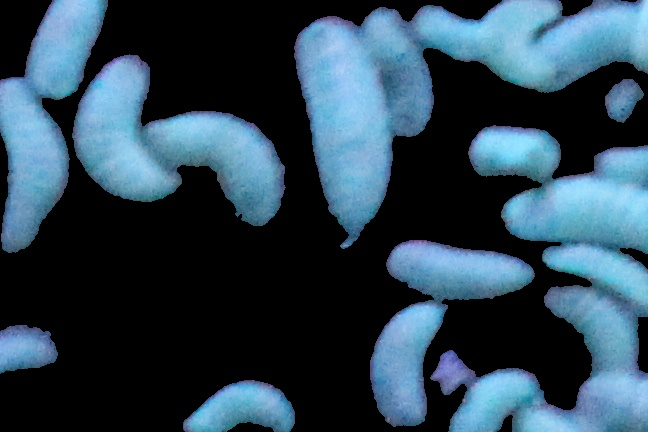larvae: (288, 18, 393, 225), (146, 111, 286, 222), (78, 54, 179, 199), (1, 77, 70, 253), (495, 180, 648, 251), (361, 297, 440, 422), (398, 232, 534, 299), (546, 280, 641, 371), (364, 11, 432, 137), (24, 1, 102, 97), (546, 242, 648, 313), (443, 361, 544, 432), (539, 2, 629, 77), (478, 2, 557, 86), (179, 378, 298, 432), (408, 1, 483, 66), (583, 144, 648, 184)
